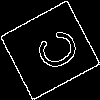C: (25, 25, 83, 79)
